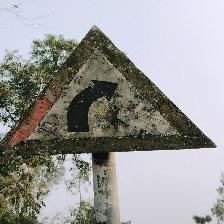Right-turn: (1, 25, 215, 157)
